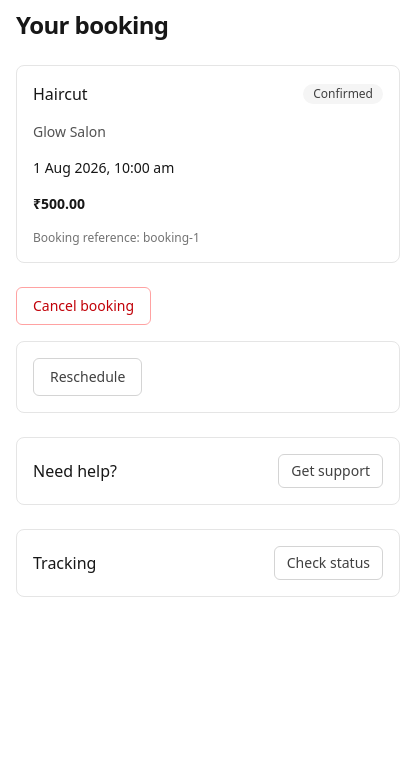
Scenario: BookingStatusPage › shows a failure state with retry when the support request fails
The width and height of the screenshot is (417, 774).
Step 1. Click the button "Get support" → (331, 471), box [278,454,383,488]
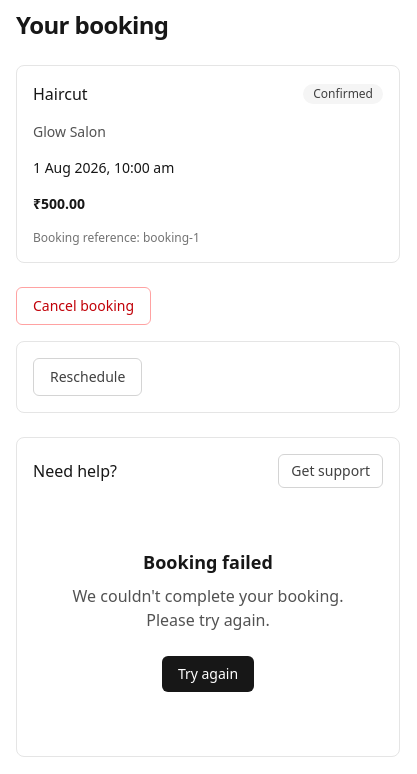
Result: the heading "Booking failed" is shown at [143,548,273,576]
